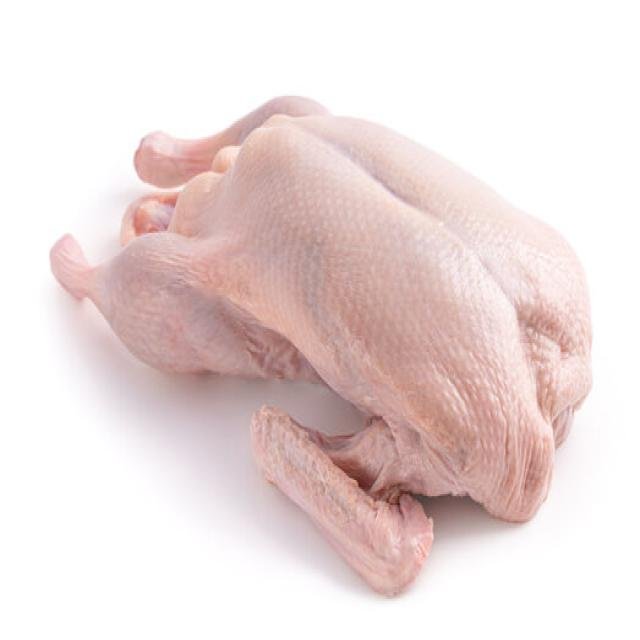duck: (51, 96, 591, 595)
